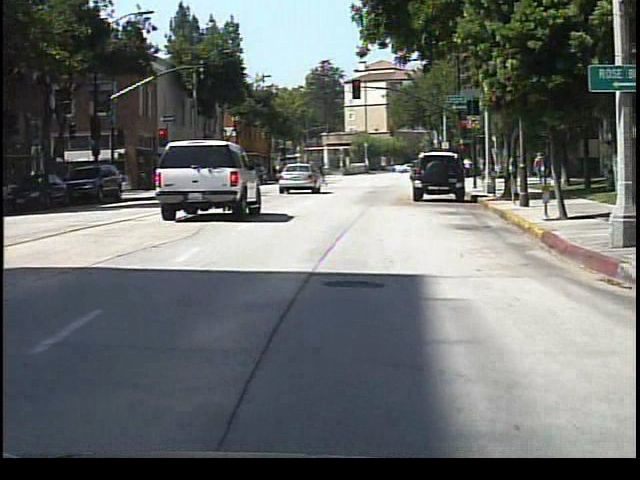person: (312, 157, 334, 191), (534, 150, 548, 188), (464, 155, 474, 179)
